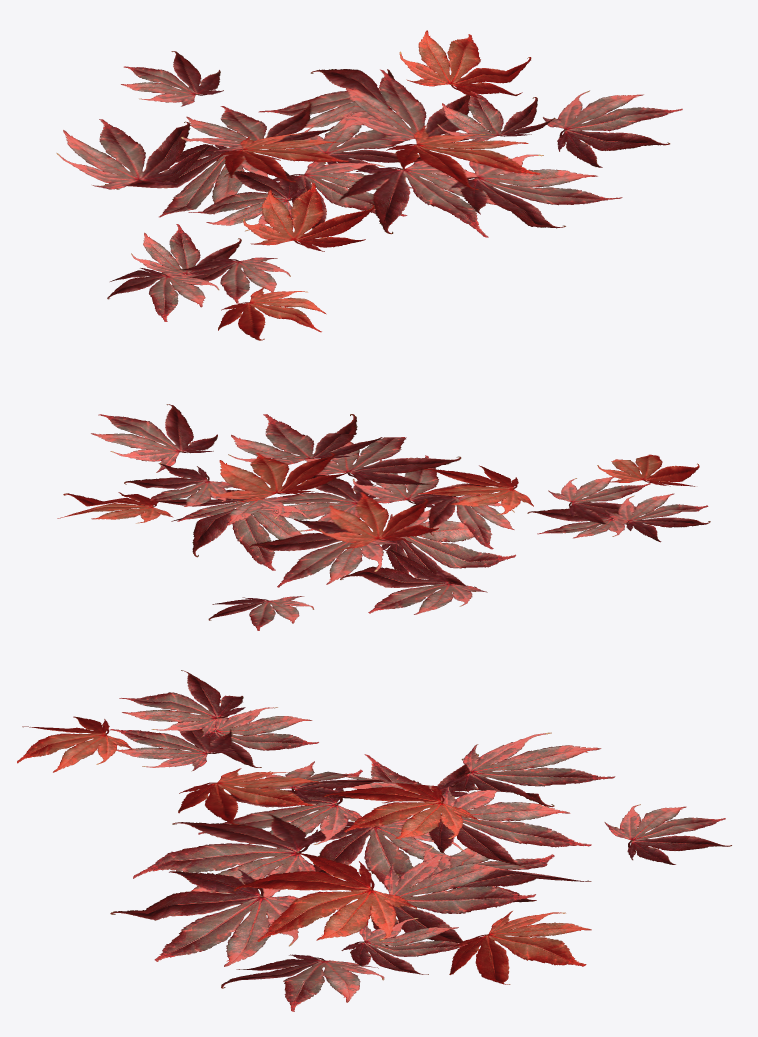
The model's file is leaves_red.fbx.
3 renders of one model, top to bottom at view 1: azimuth 30°, elevation 25°; view 2: azimuth 150°, elevation 25°; view 3: azimuth 270°, elevation 25°, orthographic. The views are drawn at different scales.
Visible parts, largest first — view 1: red_leaves; view 2: red_leaves; view 3: red_leaves.
Boxes of the visible parts, left/top/right/bottom form: red_leaves: left=56, top=30, right=682, bottom=340; red_leaves: left=57, top=404, right=710, bottom=630; red_leaves: left=17, top=670, right=731, bottom=1011.
Bounding box in the file's own units: 77.04 × 4.51 × 68.13.
